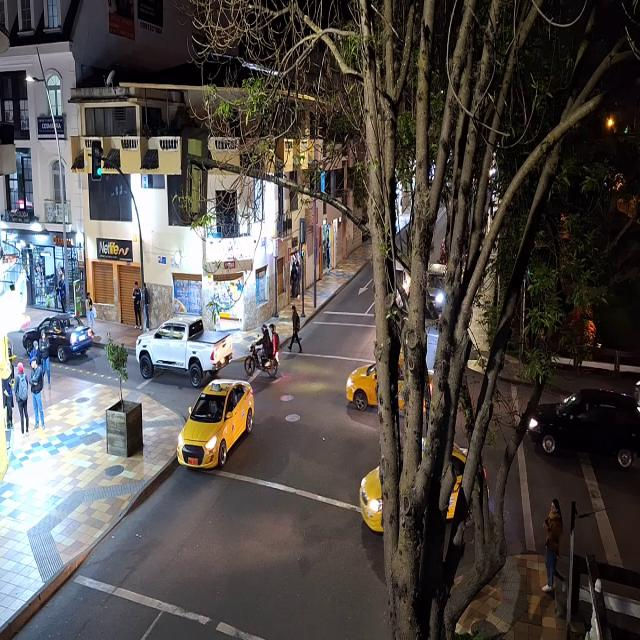CMT: (138, 317, 232, 382)
MOTORCYCLE: (246, 345, 281, 379)
SED: (182, 382, 248, 467), (25, 319, 94, 363)
SUV: (526, 392, 638, 464)
